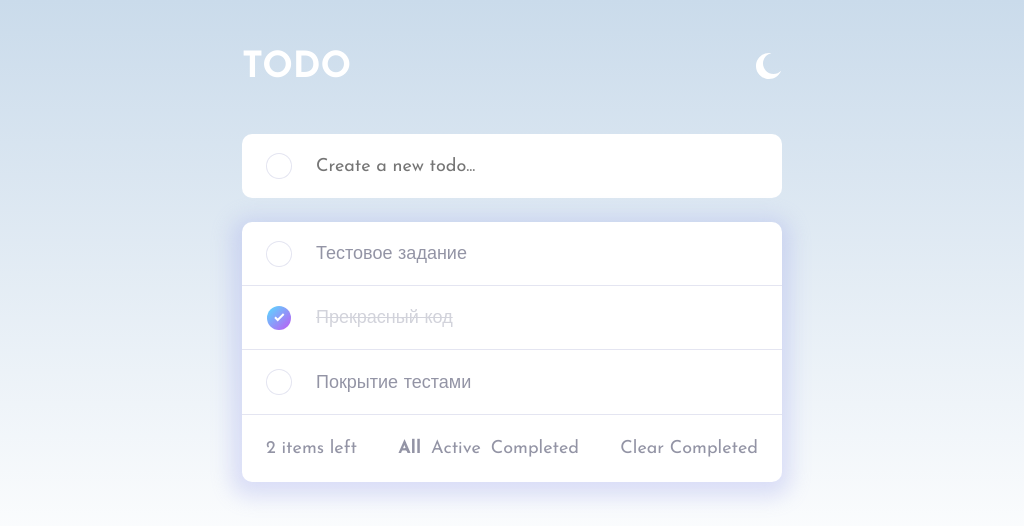
Scenario: Redux store created from the reducer › WHEN this is passed to Main › And '1 Item Left' are shown wheh check any todo as completed
The image size is (1024, 526).
Click the element with test id "checkbox" next to "Тестовое задание".
click(279, 254)  # box [266, 240, 292, 266]
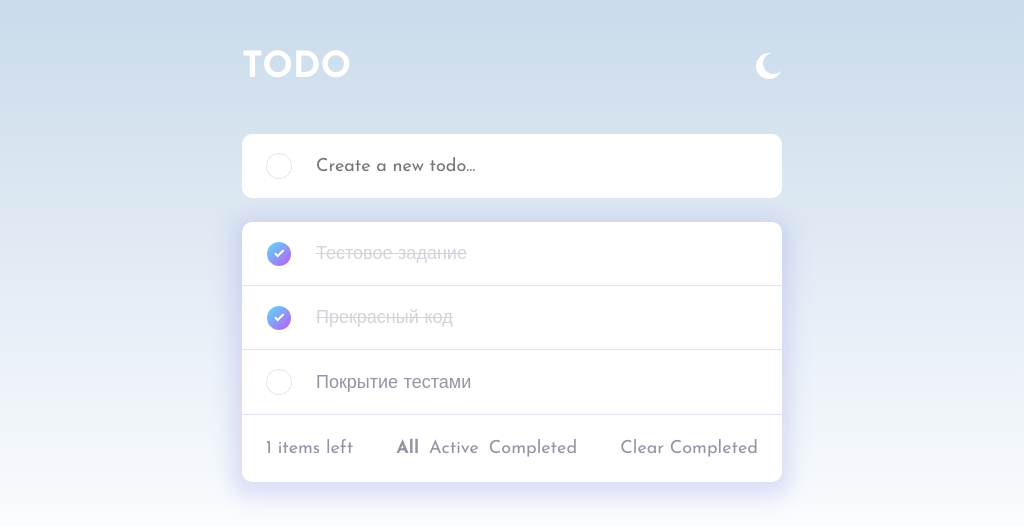
Check: the text "1 items left" is shown, box [266, 439, 353, 458]
